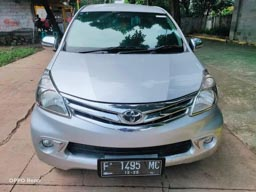plat: (99, 162, 162, 169)
